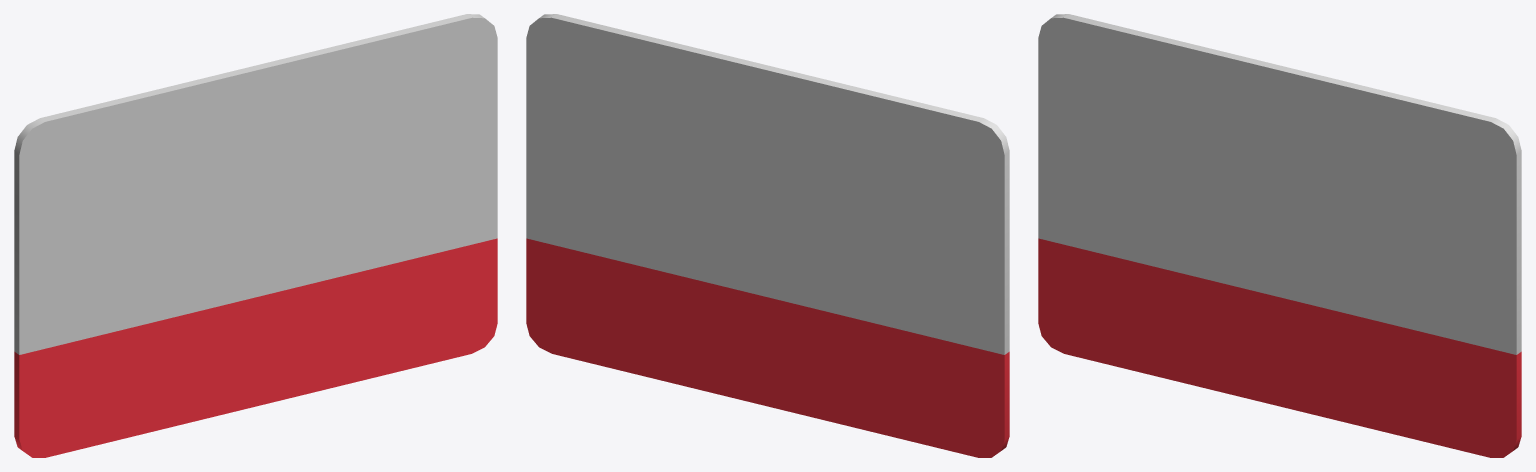
File: wearable_card.glb
3 views of the same model, side by side, from view 1: azimuth 30°, elevation 25°; view 2: azimuth 150°, elevation 25°; view 3: azimuth 330°, elevation 25° (orthographic).
Visible parts, largest first — view 1: wearable_card; view 2: wearable_card; view 3: wearable_card.
Part boxes in pixels (<box>): wearable_card: <box>14,14,497,457</box>; wearable_card: <box>526,14,1009,457</box>; wearable_card: <box>1038,14,1521,457</box>.
Bounding box in the file's own units: 1 × 0.6712 × 0.0187.
Materials: 1 (1 with a texture image).
